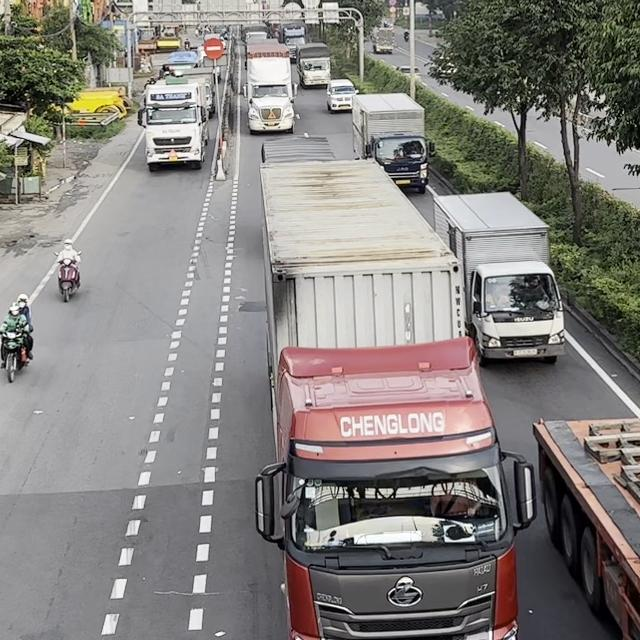bus: (161, 50, 200, 77)
car: (325, 78, 358, 113)
motorcycle: (0, 324, 33, 383), (53, 249, 82, 302)
truck: (250, 158, 538, 639), (428, 186, 566, 364), (532, 415, 639, 639), (350, 91, 434, 193), (137, 80, 209, 171), (242, 39, 296, 133), (260, 132, 336, 164), (296, 42, 331, 88), (279, 20, 307, 58), (370, 19, 394, 54)
